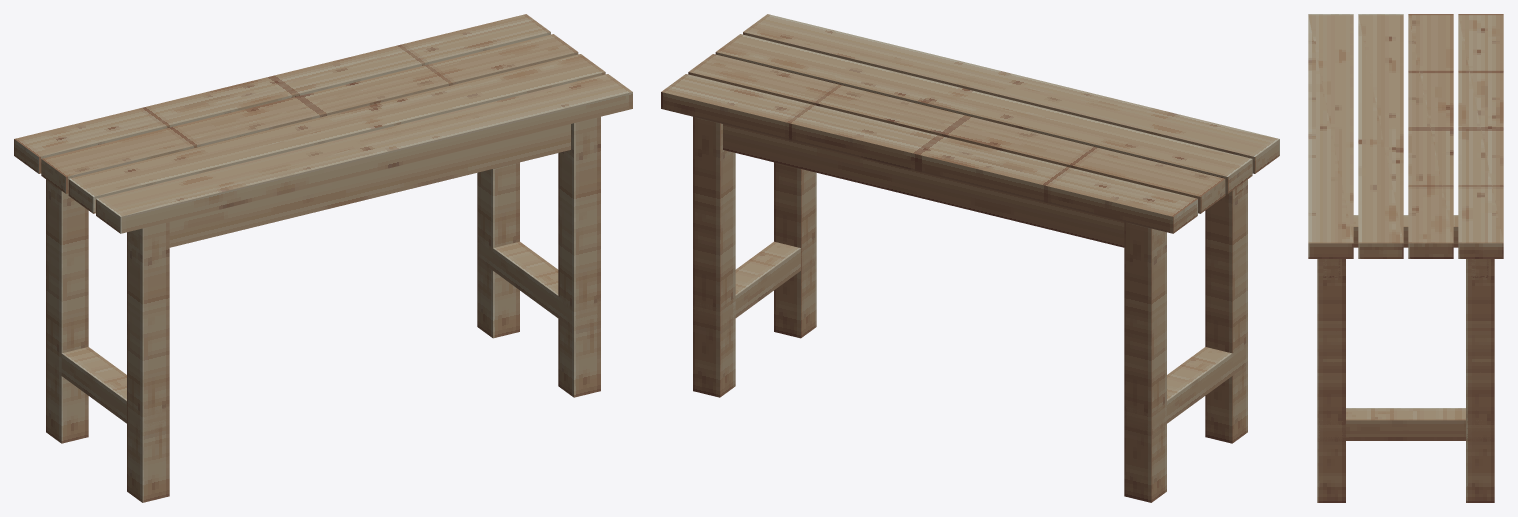
The model's file is engawabench.glb.
3 views of the same model, side by side, from view 1: azimuth 30°, elevation 25°; view 2: azimuth 150°, elevation 25°; view 3: azimuth 270°, elevation 25° (orthographic). The views are drawn at different scales.
Visible parts, largest first — view 1: mesh; view 2: mesh; view 3: mesh.
Part boxes in pixels (box(x1,y1,x2,y2)): mesh: box(14, 14, 632, 502); mesh: box(661, 14, 1279, 502); mesh: box(1308, 14, 1503, 502).
Size of the model in its own units: 0.95 by 0.5251 by 0.342.
Materials: 1 (1 with a texture image).
